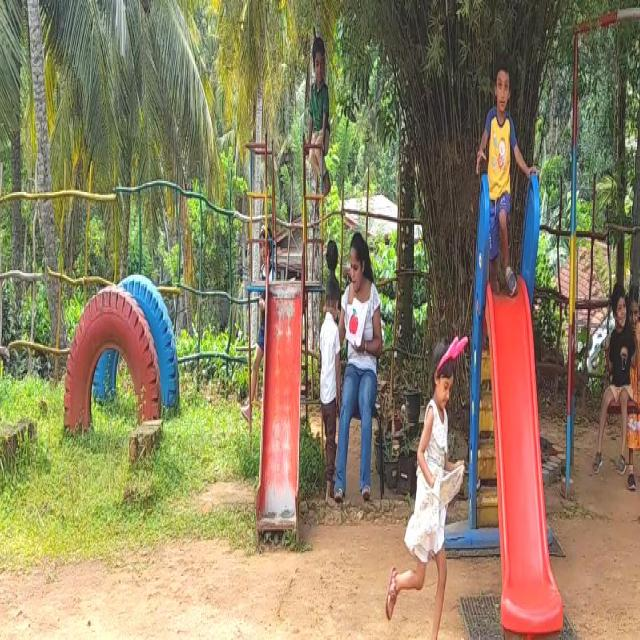adult: (340, 219, 382, 499)
child: (412, 304, 458, 640), (482, 45, 522, 289), (315, 266, 340, 505), (602, 277, 633, 449), (304, 37, 336, 192)
